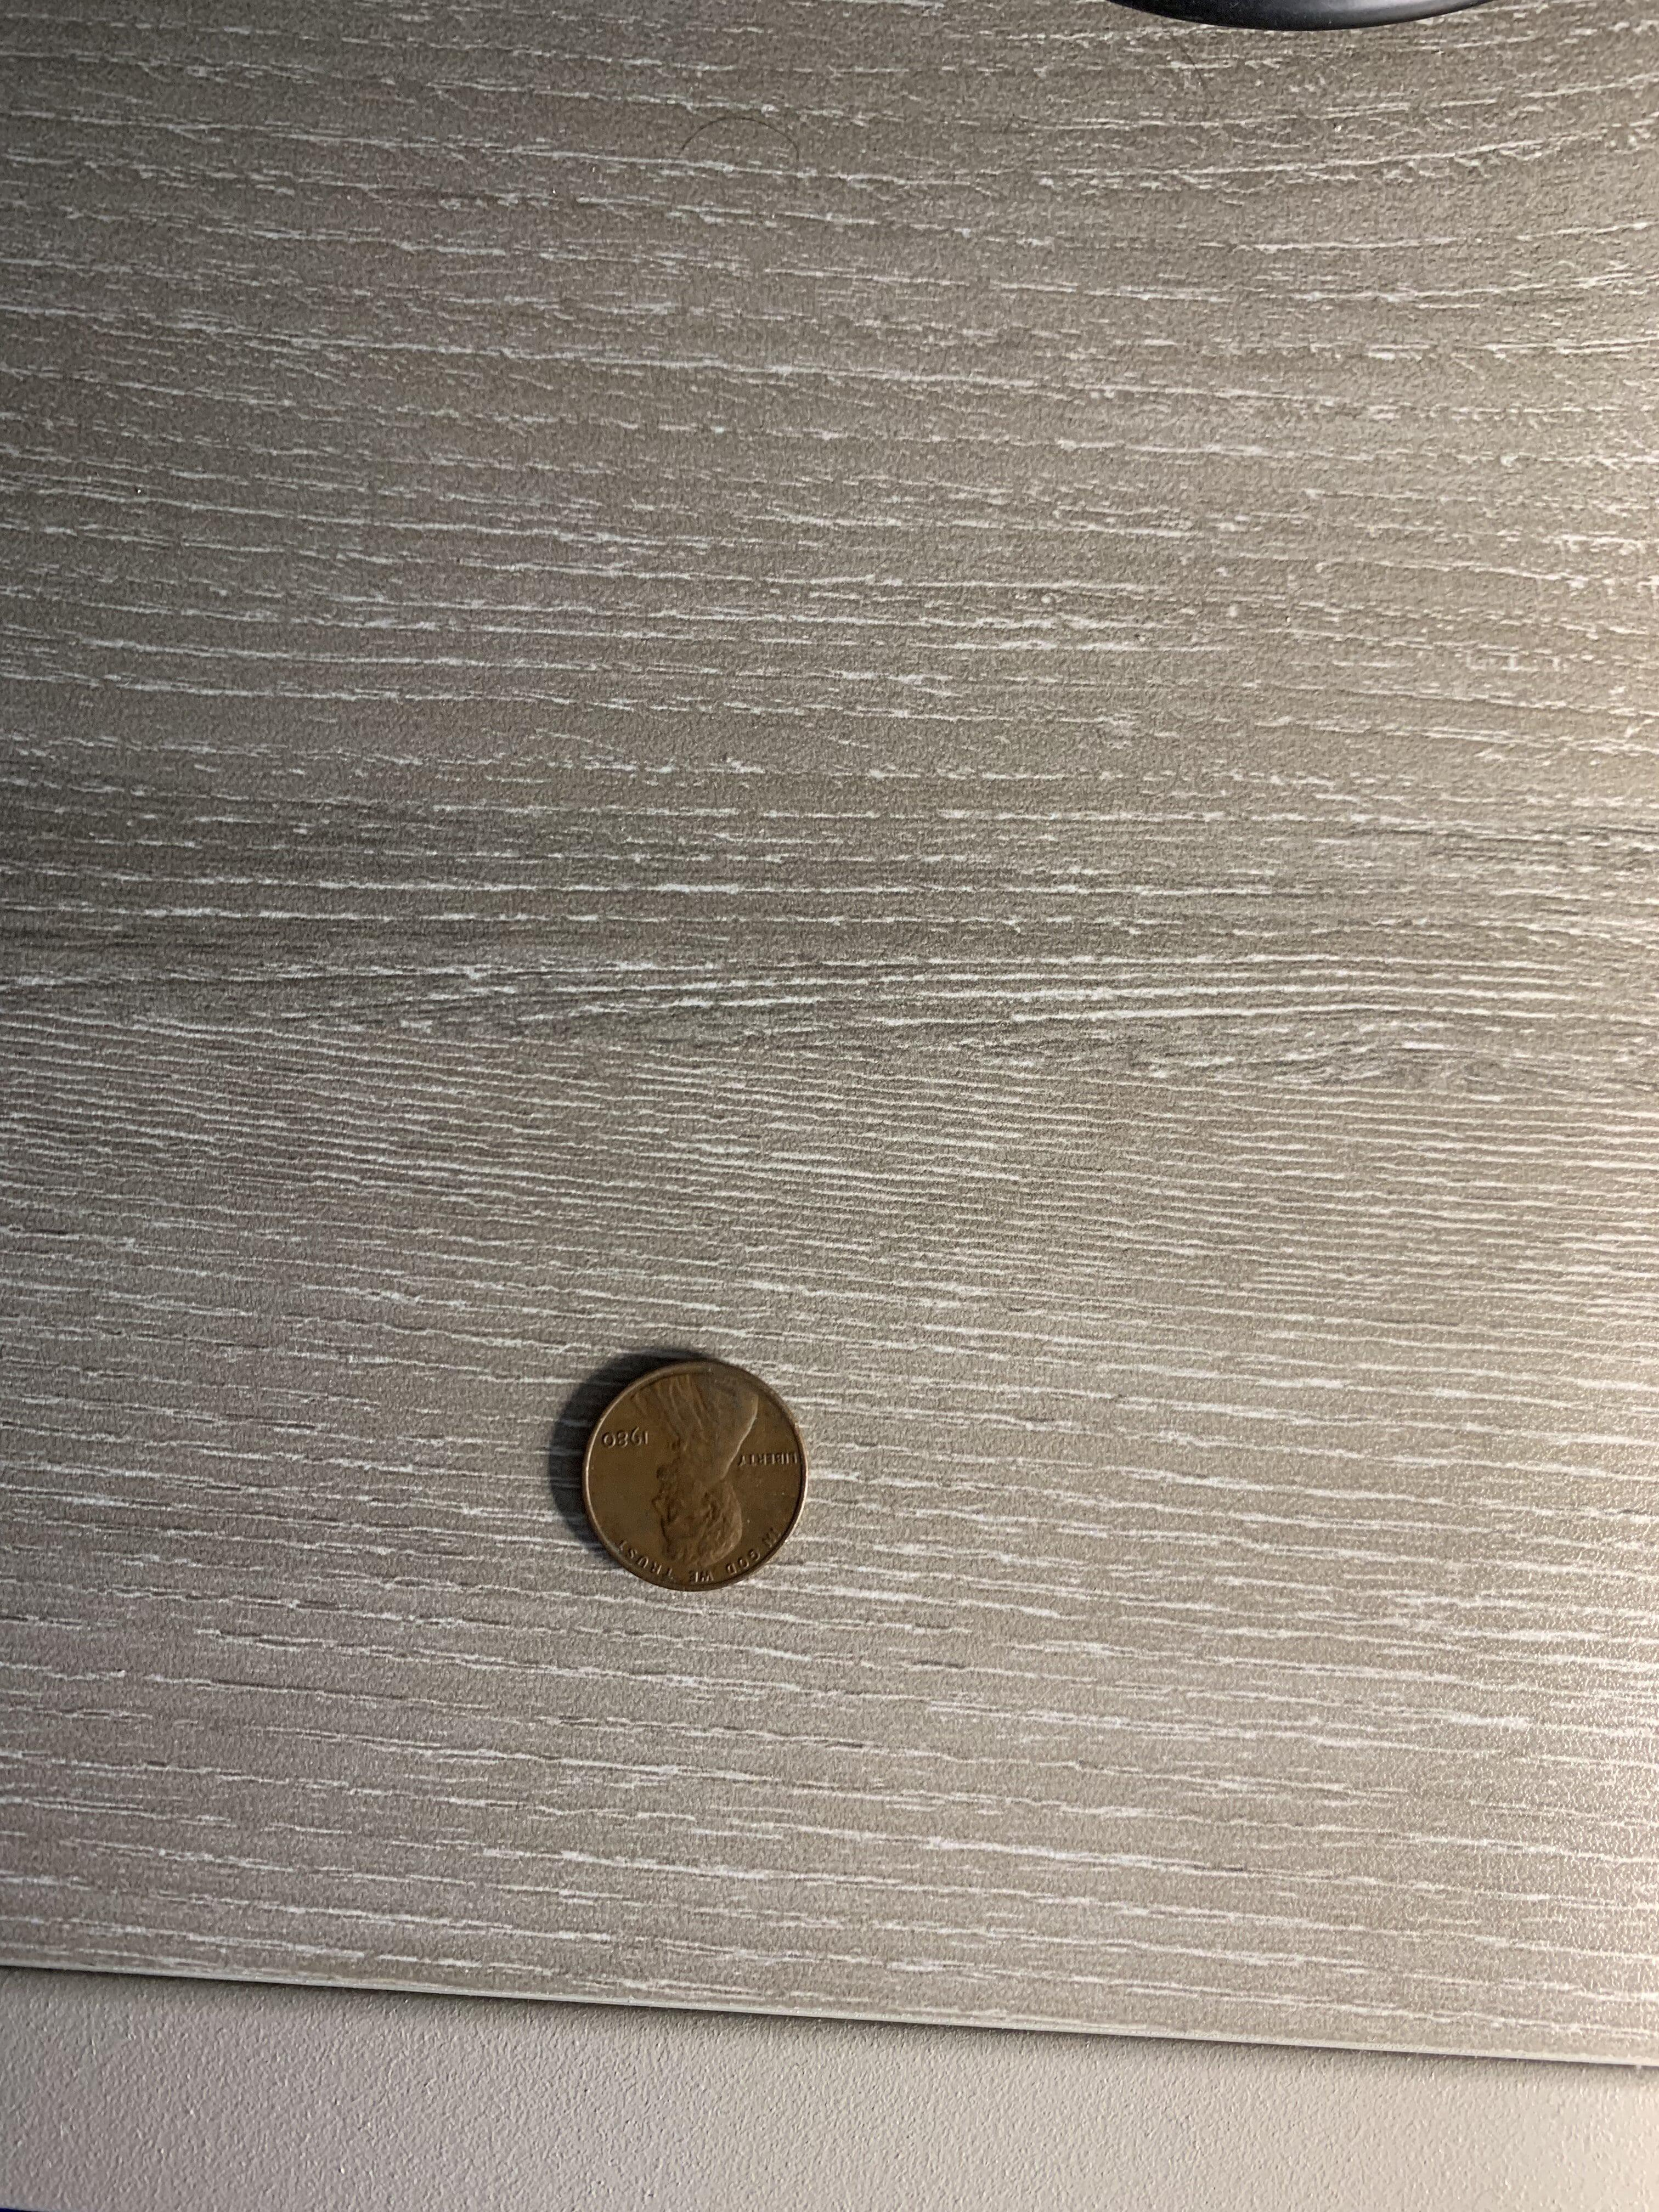Penny: (523, 1343, 863, 1602)
